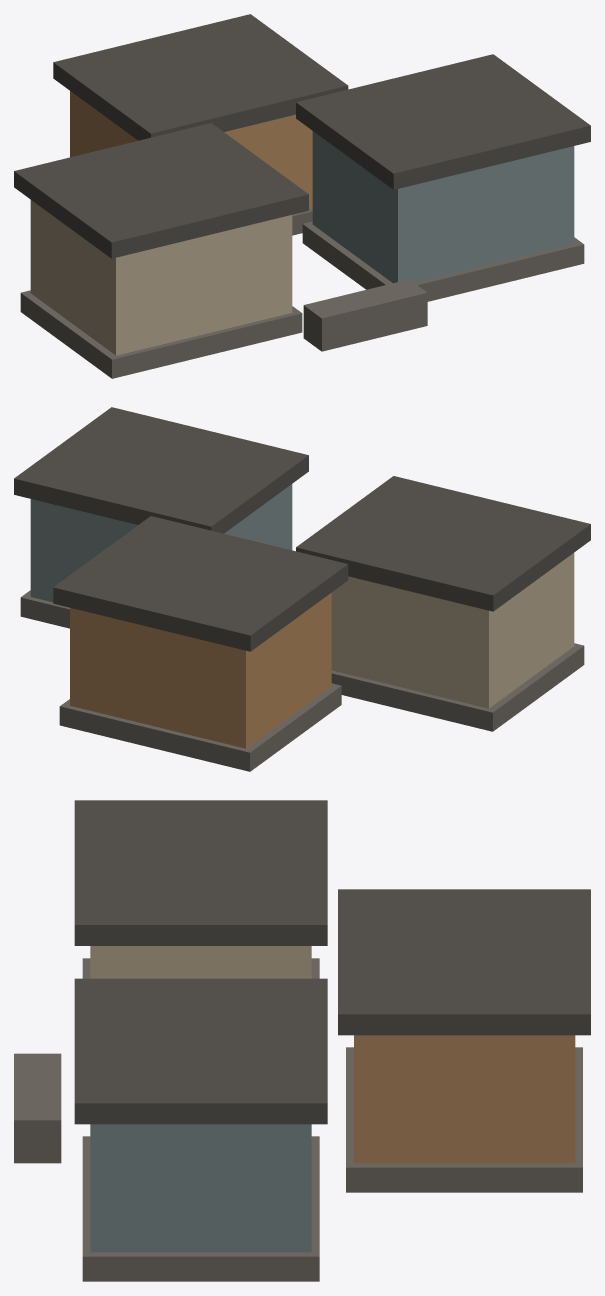
File: VillageHousing.glb
3 views of the same model, one above another, from view 1: azimuth 30°, elevation 25°; view 2: azimuth 150°, elevation 25°; view 3: azimuth 270°, elevation 25° (orthographic). The views are drawn at different scales.
Visible parts, largest first — view 1: hand-pump-static-housing-roof, hand-pump-static-housing-cream, hand-pump-static-housing-blue, hand-pump-static-housing-stone, hand-pump-static-housing-ochre; view 2: hand-pump-static-housing-roof, hand-pump-static-housing-ochre, hand-pump-static-housing-cream, hand-pump-static-housing-stone, hand-pump-static-housing-blue; view 3: hand-pump-static-housing-roof, hand-pump-static-housing-blue, hand-pump-static-housing-ochre, hand-pump-static-housing-stone, hand-pump-static-housing-cream.
Boxes of the visible parts, <box> form: hand-pump-static-housing-roof: <box>14,14,590,258</box>; hand-pump-static-housing-cream: <box>30,200,292,355</box>; hand-pump-static-housing-blue: <box>312,131,574,283</box>; hand-pump-static-housing-stone: <box>20,208,584,378</box>; hand-pump-static-housing-ochre: <box>70,91,312,209</box>; hand-pump-static-housing-roof: <box>14,407,590,651</box>; hand-pump-static-housing-ochre: <box>70,593,331,748</box>; hand-pump-static-housing-cream: <box>331,553,574,708</box>; hand-pump-static-housing-stone: <box>20,590,584,771</box>; hand-pump-static-housing-blue: <box>30,484,292,602</box>; hand-pump-static-housing-roof: <box>74,800,590,1124</box>; hand-pump-static-housing-blue: <box>90,1124,311,1252</box>; hand-pump-static-housing-ochre: <box>354,1035,575,1163</box>; hand-pump-static-housing-stone: <box>14,958,582,1281</box>; hand-pump-static-housing-cream: <box>90,946,311,978</box>.
Size of the model in its own units: 6.8 by 1.89 by 5.48.
